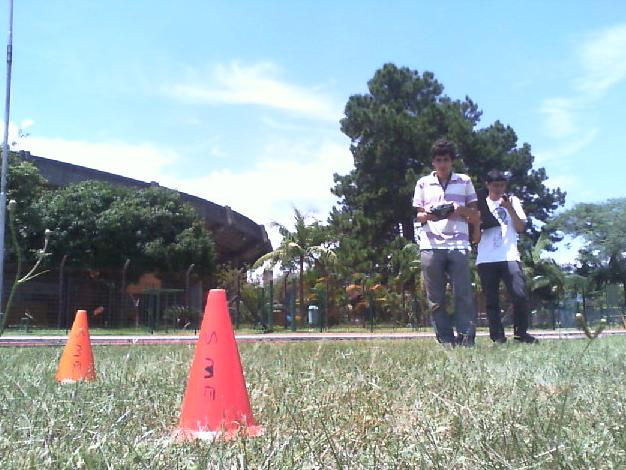0 cone: (173, 290, 261, 442), (56, 310, 96, 382)
